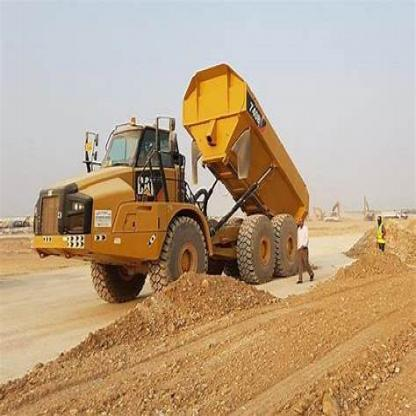dump_truck: (25, 58, 309, 290)
